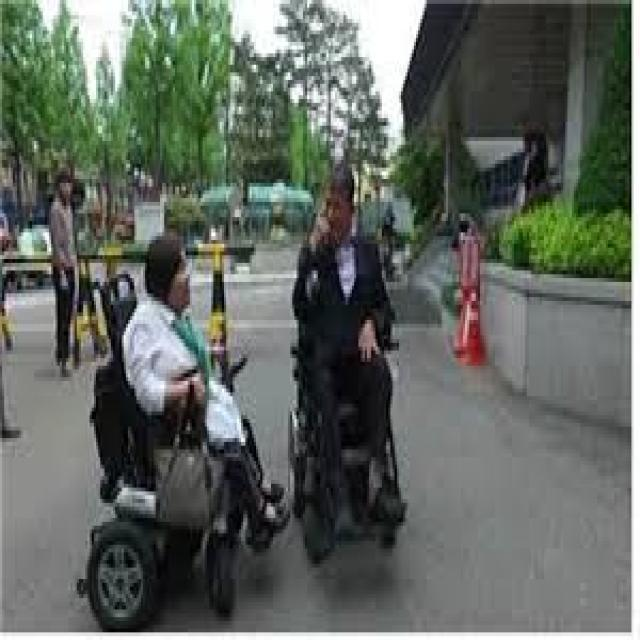wheelchair: (84, 233, 284, 623), (290, 166, 408, 564)
